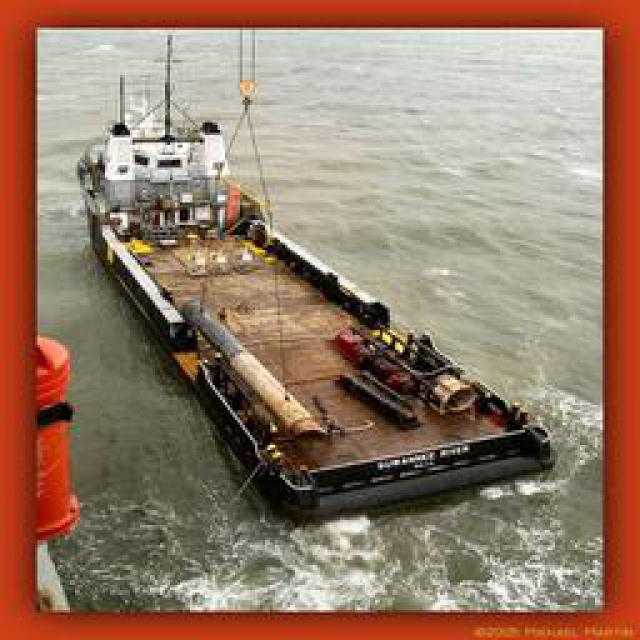Ship: (79, 48, 549, 536)
